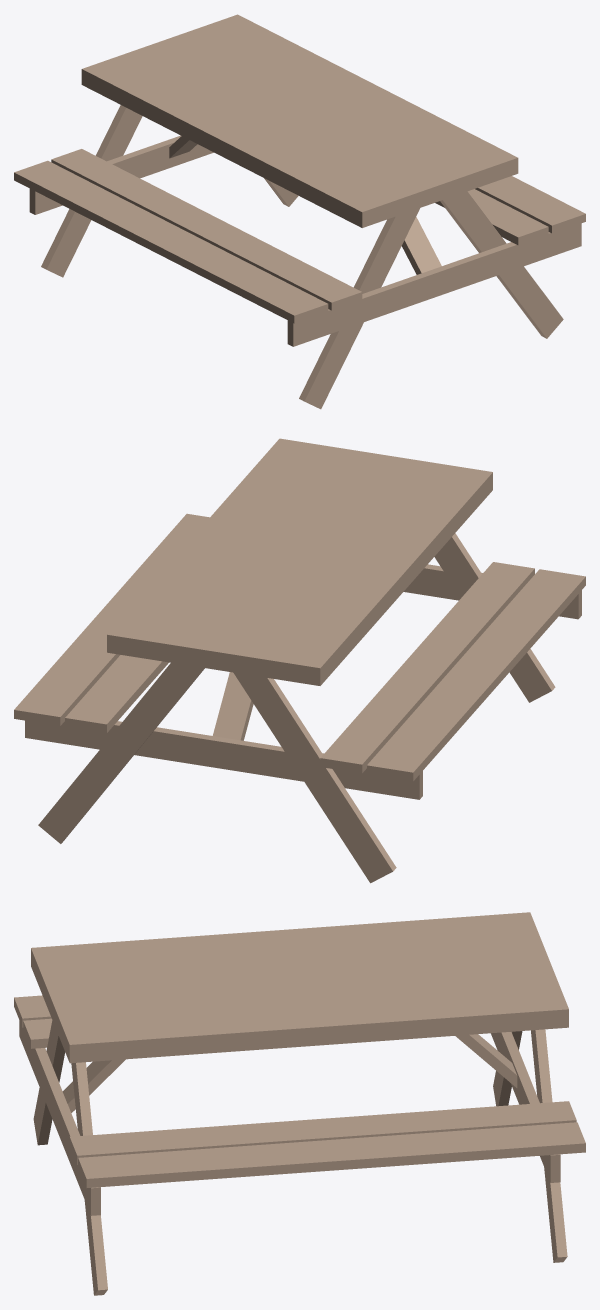
File: wood_bench_24049.glb
3 renders of one model, top to bottom at view 1: azimuth 30°, elevation 25°; view 2: azimuth 150°, elevation 25°; view 3: azimuth 270°, elevation 25°, orthographic. The views are drawn at different scales.
Parts seen in each view (by area): view 1: part_24056, part_24057, part_24055, part_24062, part_24060, part_24061, part_24066, part_24051, part_24068, part_24052, part_24054; view 2: part_24056, part_24057, part_24055, part_24051, part_24068, part_24066, part_24067, part_24052, part_24060, part_24053, part_24062; view 3: part_24056, part_24051, part_24052, part_24062, part_24067, part_24061, part_24068, part_24060, part_24053, part_24054, part_24057, part_24055 (+1 smaller).
Part boxes in pixels (x1,y1,x2,y2): part_24056: (81,14,518,227); part_24057: (14,160,328,323); part_24055: (51,149,362,310); part_24062: (287,223,581,346); part_24060: (299,208,419,409); part_24061: (440,191,563,338); part_24066: (41,105,142,277); part_24051: (475,176,585,233); part_24068: (29,135,213,214); part_24052: (435,189,548,245); part_24054: (402,217,441,274); part_24056: (107,438,492,685); part_24057: (367,569,585,781); part_24055: (320,562,534,773); part_24051: (14,513,209,725); part_24068: (25,720,422,799); part_24066: (233,672,396,883); part_24067: (38,662,204,843); part_24052: (65,655,168,733); part_24060: (434,533,555,702); part_24053: (212,672,253,740); part_24062: (403,564,581,619); part_24056: (31,912,568,1063); part_24051: (78,1122,585,1187); part_24052: (69,1101,576,1164); part_24062: (19,1020,100,1215); part_24067: (531,1029,567,1262); part_24061: (71,1062,107,1295); part_24068: (491,1032,560,1182); part_24060: (33,1020,65,1145); part_24053: (455,1034,517,1087); part_24054: (62,1059,125,1112); part_24057: (14,995,51,1027); part_24055: (23,1018,52,1048).
Bounding box in the file's own units: 10.15 × 4.98 × 11.29.
